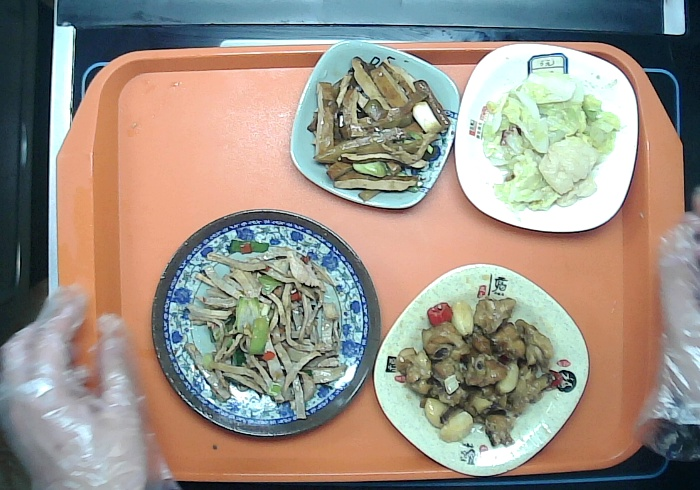NLDX-Bai_Se_Xiao_Fang_Die: (445, 35, 646, 242)
NLDX-Fu_Zi_Fang_Die: (371, 260, 594, 487)
NLDX-Qing_Hua_Xiao_Fang_Die: (286, 35, 464, 215)
NLDX-Qing_Hua_Yuan_Die: (139, 205, 391, 446)
